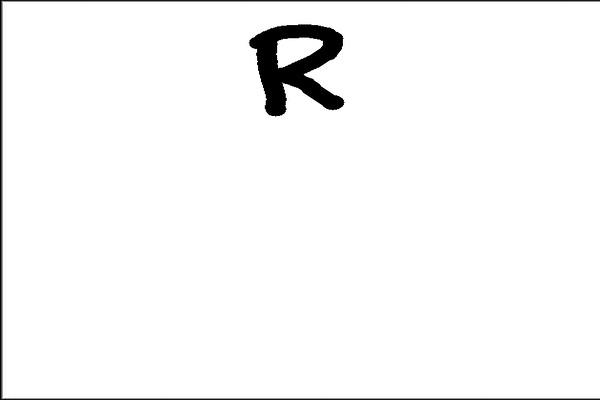R: (244, 22, 353, 118)
